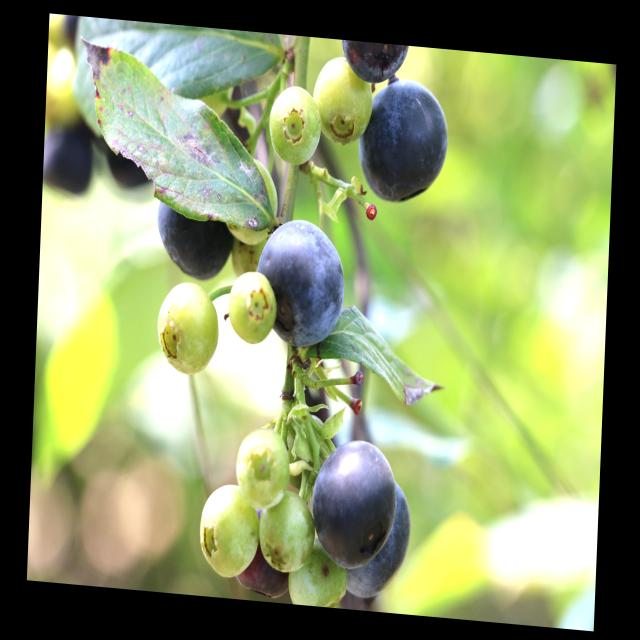blueberry: (253, 214, 355, 346), (308, 435, 401, 574), (357, 76, 455, 207), (341, 471, 422, 604), (152, 167, 242, 286), (42, 119, 96, 203)
blueberry-unripe: (155, 276, 221, 378), (198, 478, 258, 582), (312, 56, 372, 148), (257, 485, 316, 572), (233, 425, 290, 515), (266, 80, 322, 168), (286, 541, 347, 609), (226, 269, 273, 353)
